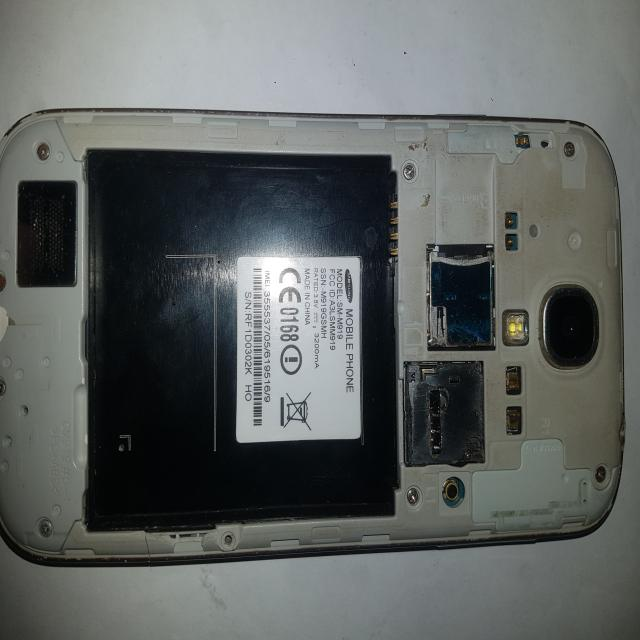elektronik: (6, 97, 624, 582)
